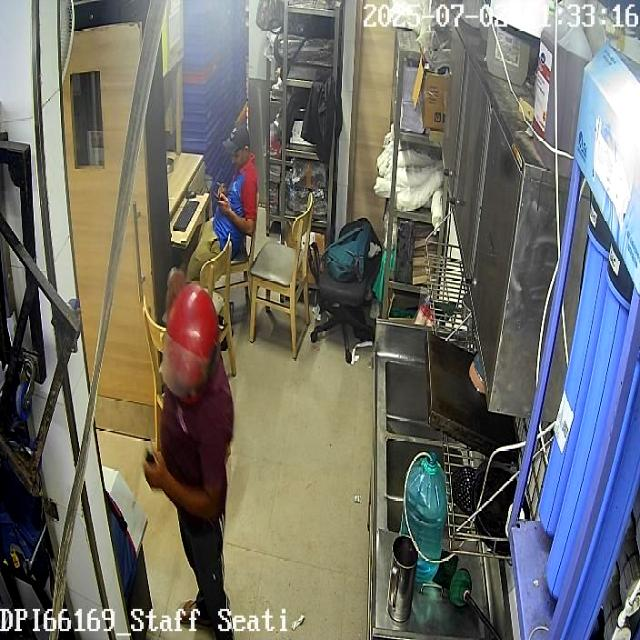helmet: (160, 282, 221, 405)
